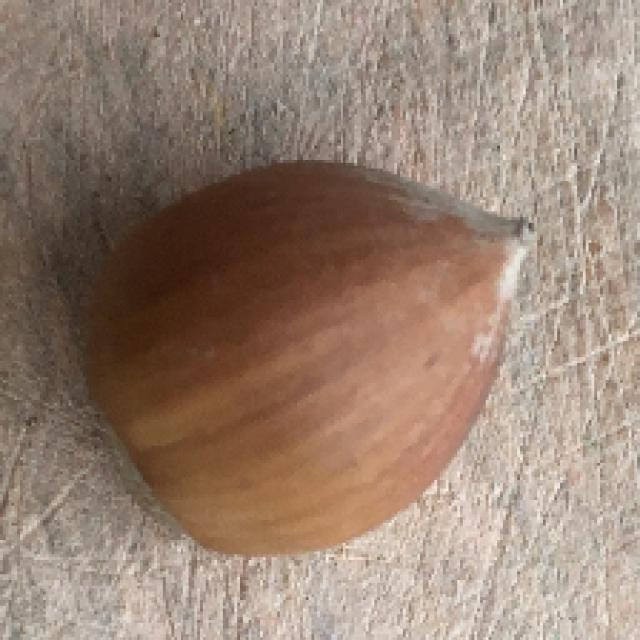qualityHazelnut: (62, 152, 542, 557)
